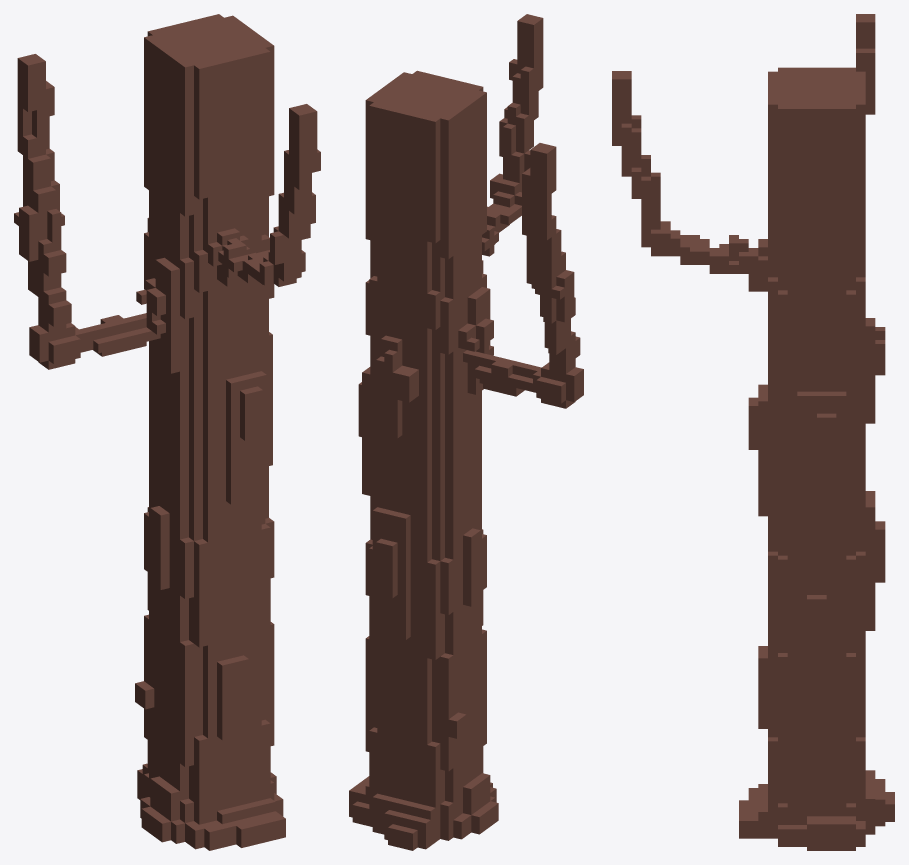
The model's file is trunk_2.dae.
3 renders of one model, left to right at view 1: azimuth 30°, elevation 25°; view 2: azimuth 150°, elevation 25°; view 3: azimuth 270°, elevation 25°, orthographic. The views are drawn at different scales.
Parts seen in each view (by area): view 1: trunk_2; view 2: trunk_2; view 3: trunk_2.
Part boxes in pixels (x1,y1,x2,y2): trunk_2: (14,14,320,850); trunk_2: (349,14,583,850); trunk_2: (612,14,894,850).
Bounding box in the file's own units: 2.6 × 2.9 × 8.4.
1 material, 1 textured.
